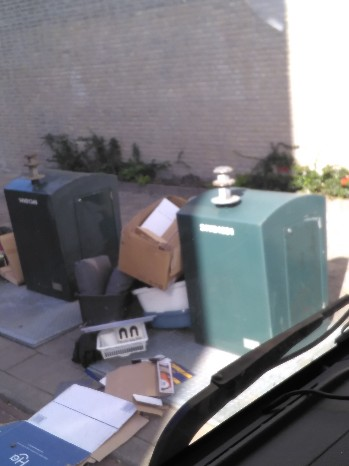Container: (196, 204, 318, 343), (25, 174, 116, 282)
Papier: (71, 343, 157, 466), (131, 194, 183, 274)
Plastic: (79, 294, 155, 356), (136, 257, 188, 340)
